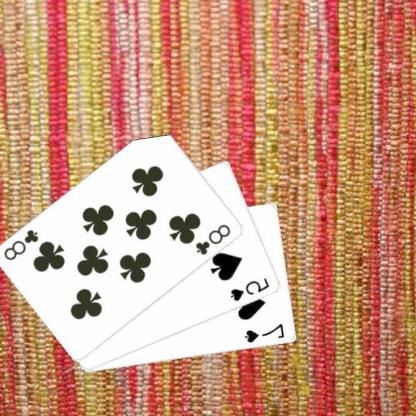5S: (230, 275, 273, 303)
7S: (244, 321, 288, 345)
8C: (3, 226, 42, 262), (195, 221, 234, 256)
